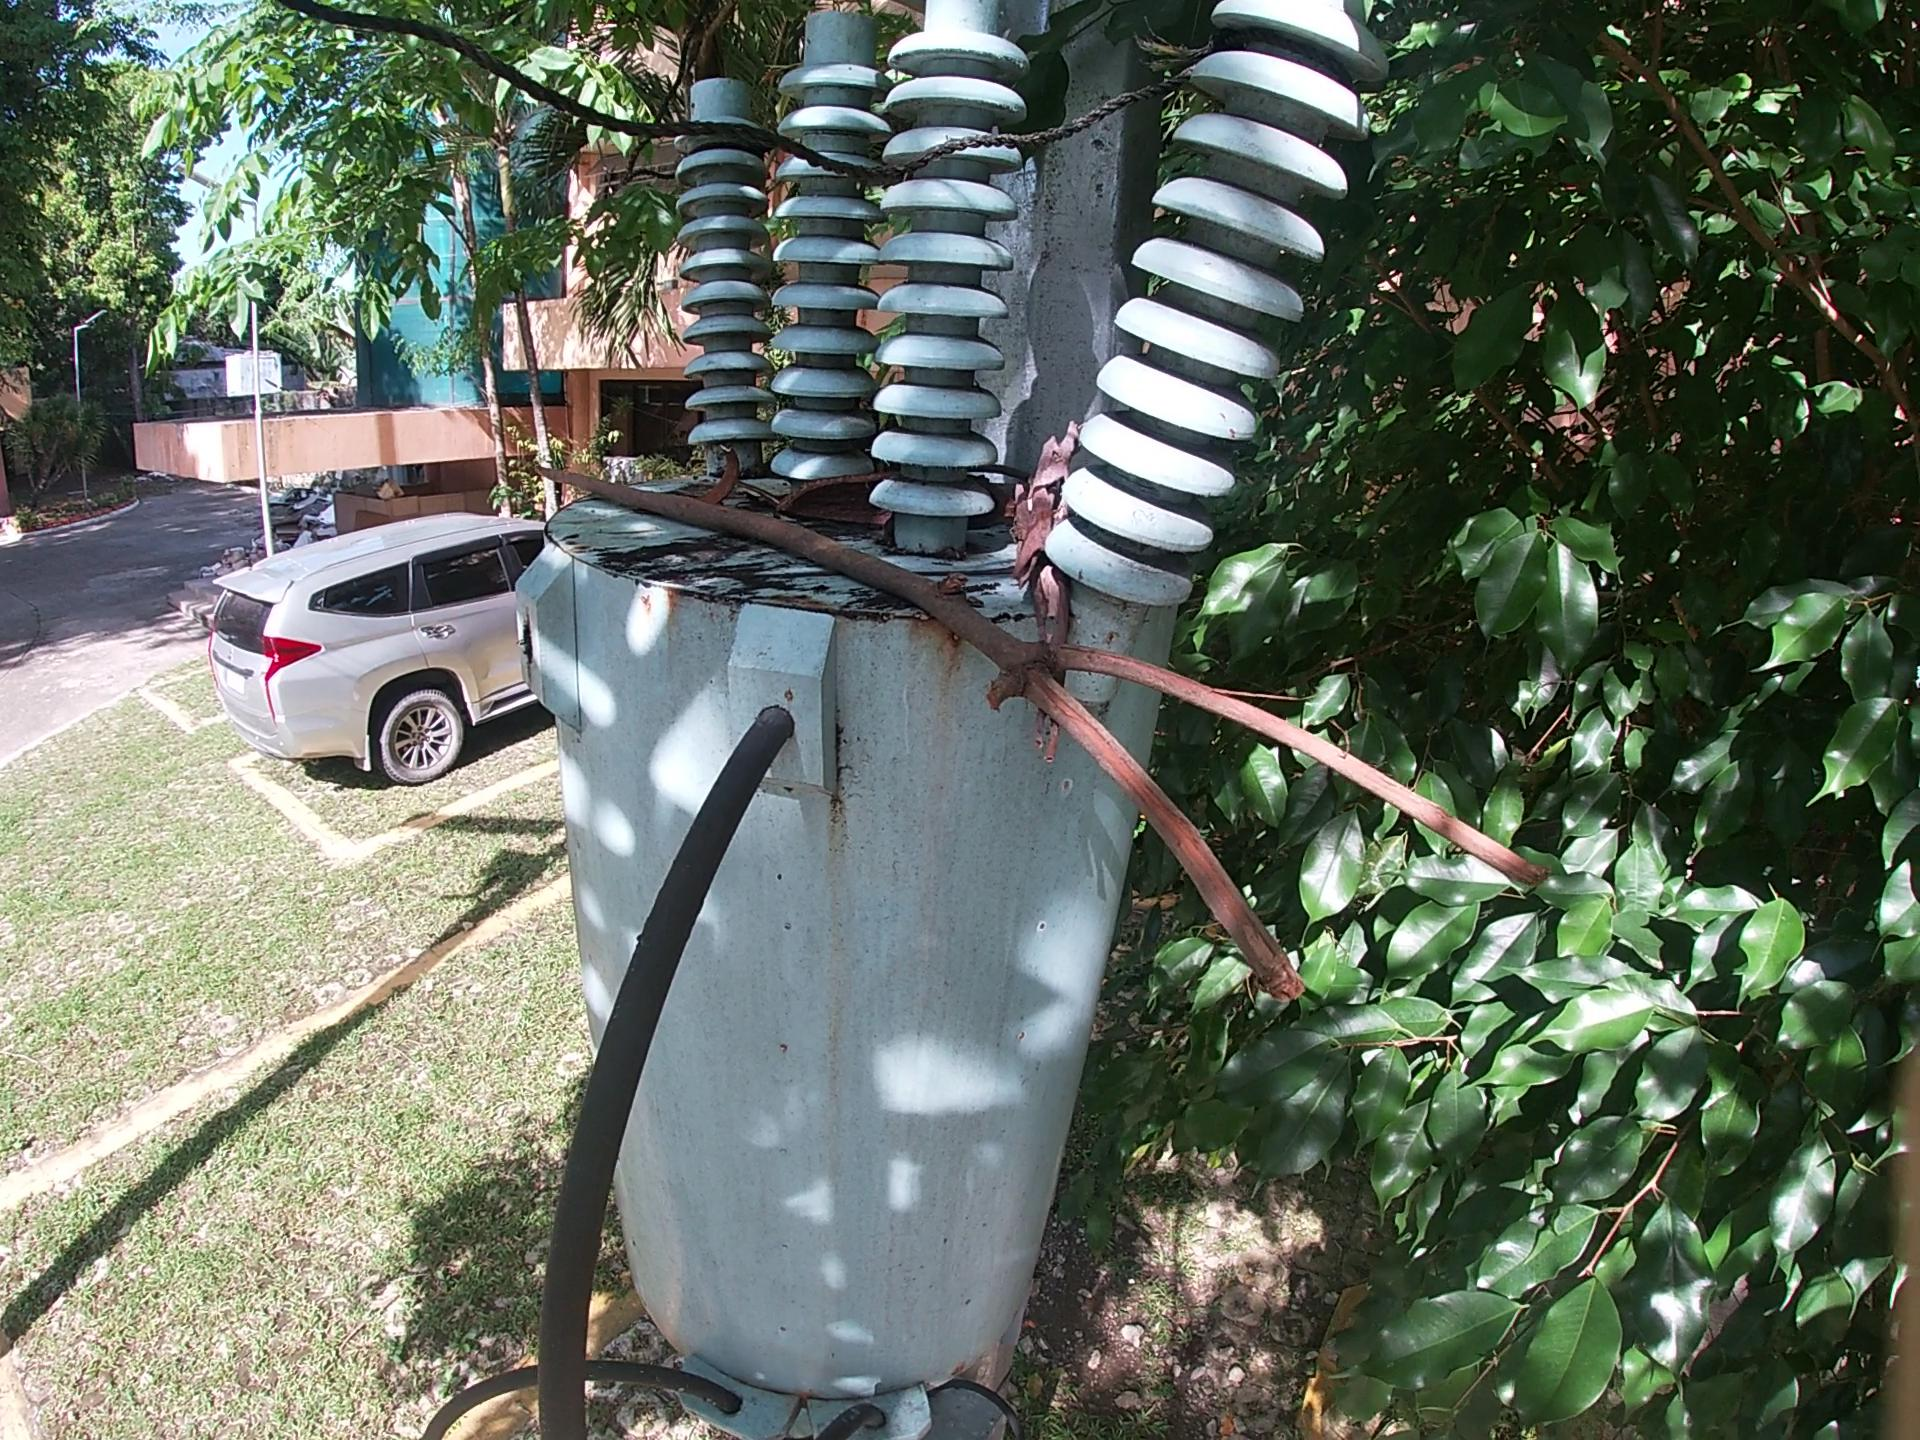mahogany fruit: (779, 473, 895, 526), (692, 446, 754, 493)
tree branch: (513, 451, 1578, 1029), (1013, 417, 1089, 777), (969, 458, 1034, 479)
